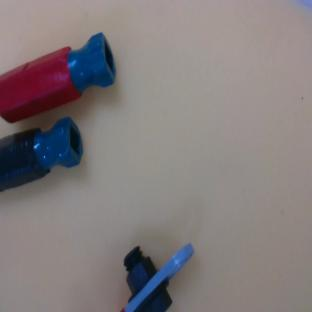part_1_good: (120, 244, 194, 311)
part_2_bad: (0, 115, 89, 191)
part_2_good: (0, 30, 124, 129)
